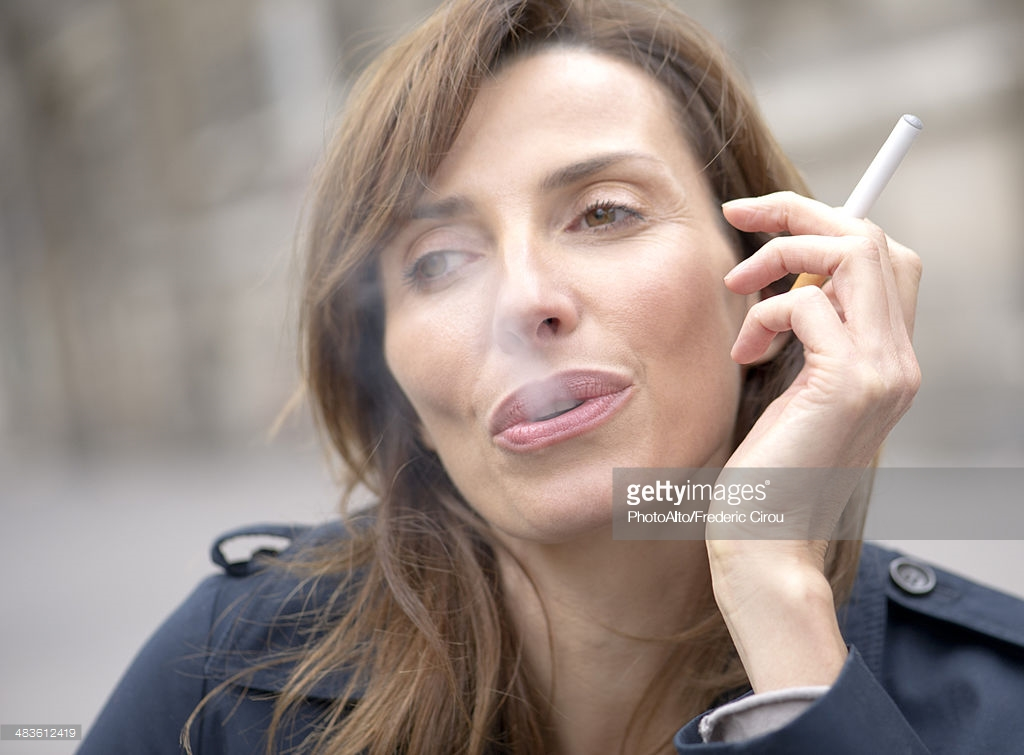cigarette: (792, 107, 931, 295)
